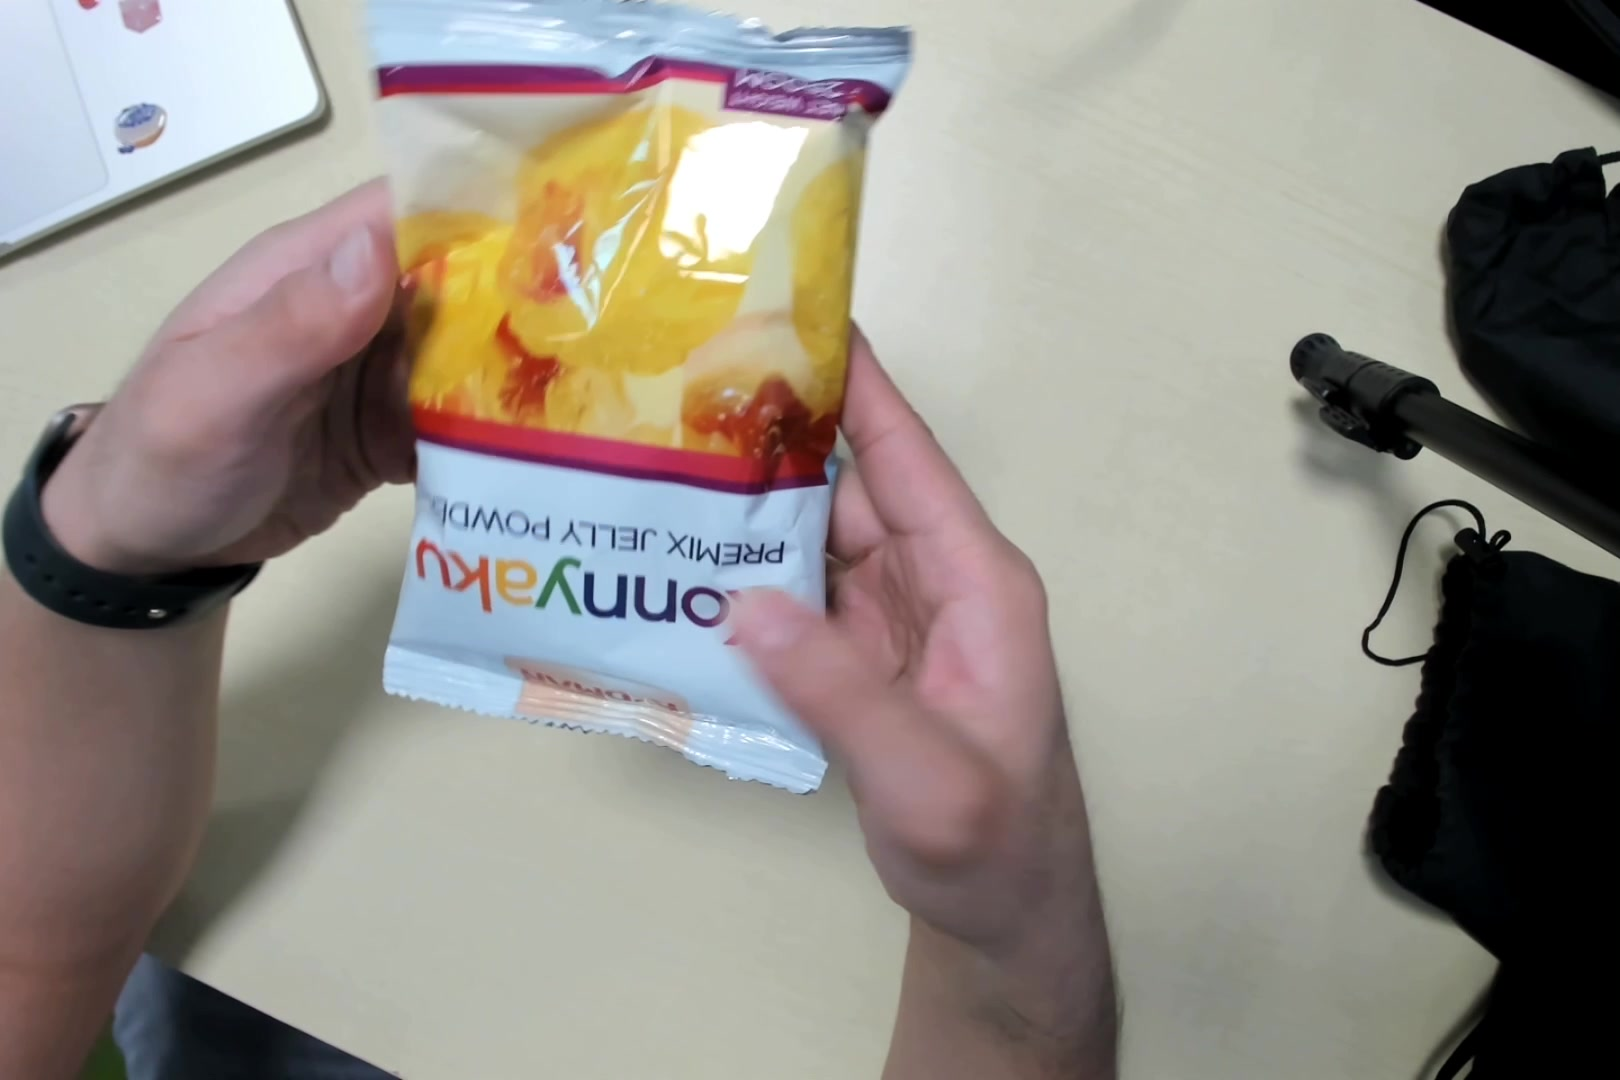OtherBakingNeeds_200-299g_Halal_NonHealthy: (360, 1, 900, 804)
